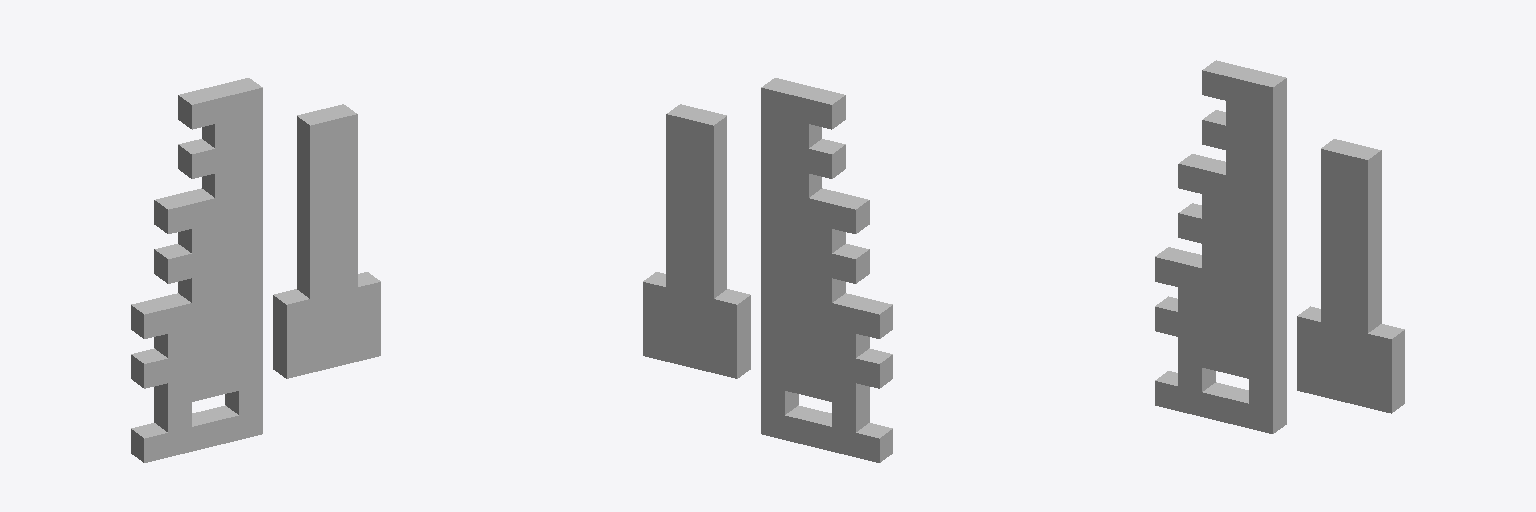
Rendered from Ferramenta - Tesourão.obj.
The picture shows the model from 3 angles: view 1: azimuth 30°, elevation 25°; view 2: azimuth 150°, elevation 25°; view 3: azimuth 330°, elevation 25°; orthographic projection.
Visible parts, largest first — view 1: object 1; view 2: object 1; view 3: object 1.
Part boxes in pixels (x1,y1,x2,y2): object 1: (131, 78, 380, 462); object 1: (643, 78, 892, 462); object 1: (1155, 60, 1404, 433).
Size of the model in its own units: 1 by 1.4 by 0.1.